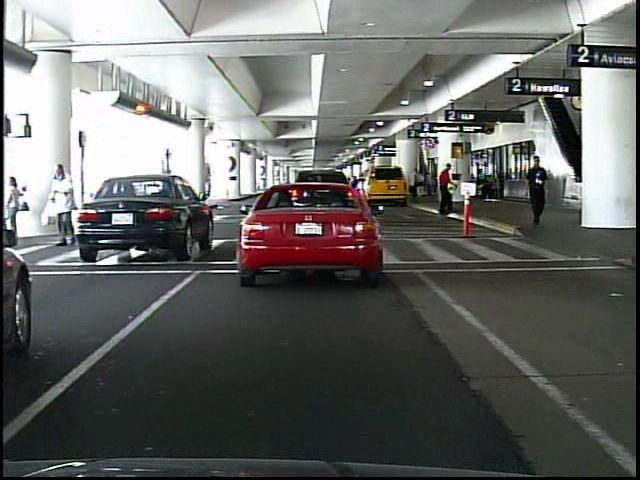person: (47, 164, 81, 250), (525, 153, 549, 229), (3, 174, 24, 239), (436, 164, 454, 217), (410, 167, 423, 203)
